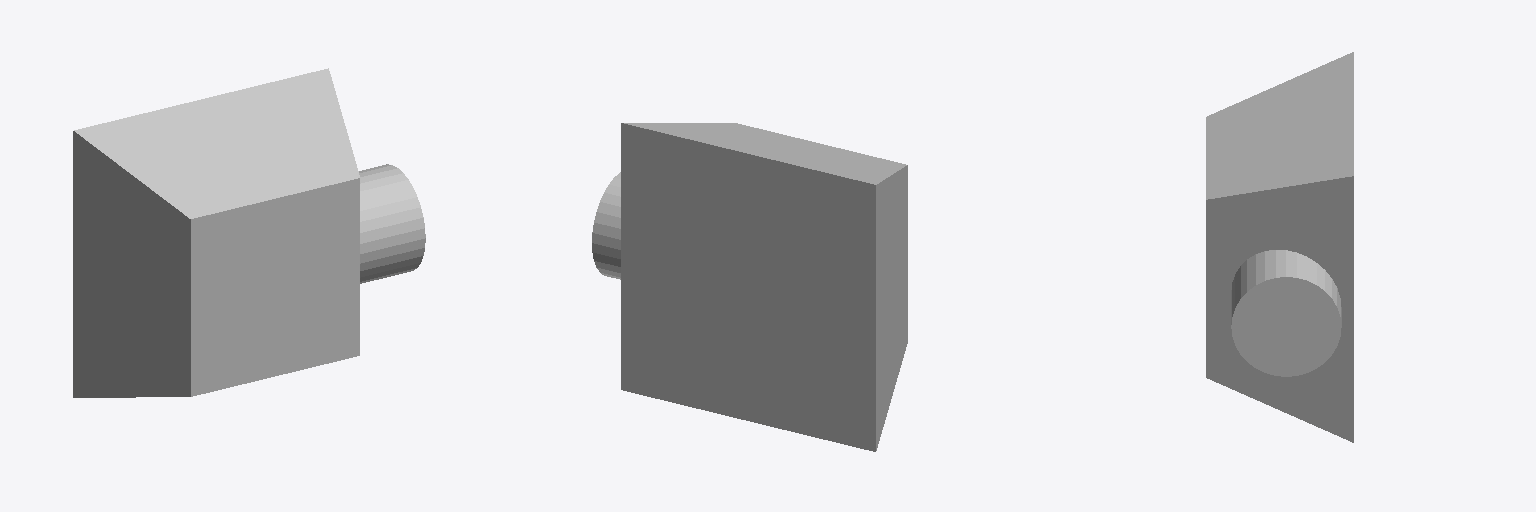
3 renders of one model, left to right at view 1: azimuth 30°, elevation 25°; view 2: azimuth 150°, elevation 25°; view 3: azimuth 270°, elevation 25°, orthographic.
Parts seen in each view (by area): view 1: CannonBase_Cube, Cannon_Cylinder; view 2: CannonBase_Cube, Cannon_Cylinder; view 3: CannonBase_Cube, Cannon_Cylinder.
Boxes of the visible parts, x1=… form: CannonBase_Cube: x1=73, y1=68, x2=359, y2=397; Cannon_Cylinder: x1=359, y1=164, x2=425, y2=283; CannonBase_Cube: x1=621, y1=123, x2=907, y2=451; Cannon_Cylinder: x1=592, y1=172, x2=620, y2=279; CannonBase_Cube: x1=1206, y1=52, x2=1353, y2=442; Cannon_Cylinder: x1=1231, y1=250, x2=1341, y2=376.
Size of the model in its own units: 1.24 by 1.09 by 0.5482.